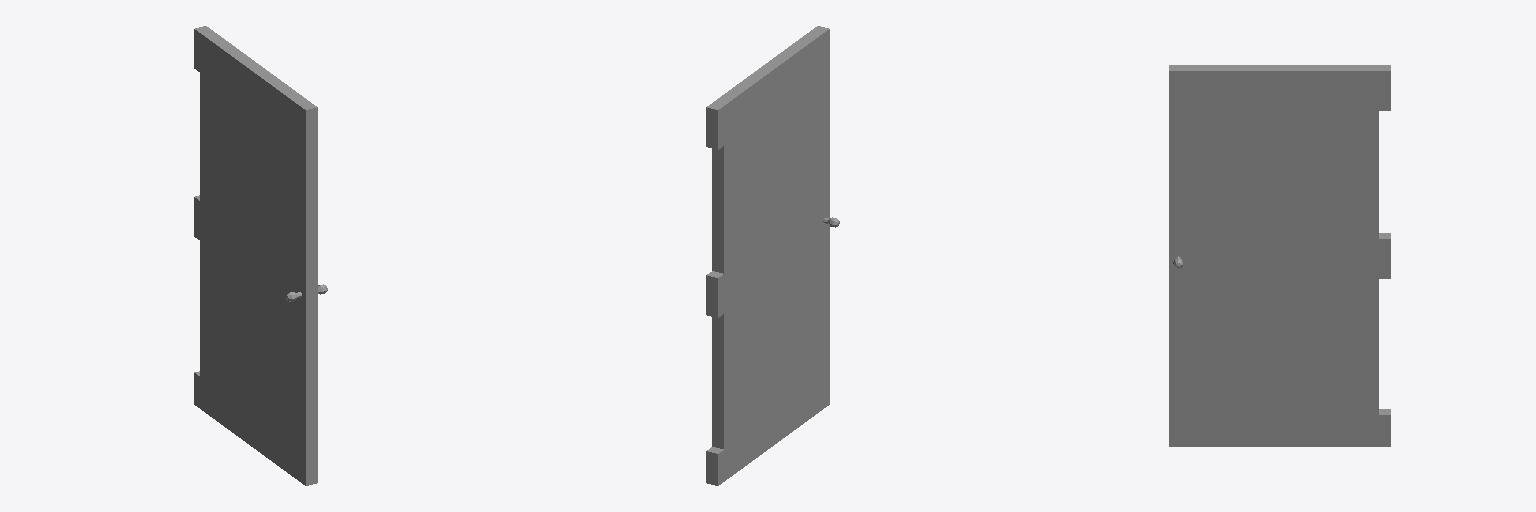
File: Door.obj
3 views of the same model, side by side, from view 1: azimuth 30°, elevation 25°; view 2: azimuth 150°, elevation 25°; view 3: azimuth 270°, elevation 25° (orthographic).
Parts seen in each view (by area): view 1: Cube; view 2: Cube; view 3: Cube.
Boxes of the visible parts, x1=… form: Cube: x1=194, y1=26, x2=327, y2=485; Cube: x1=706, y1=26, x2=839, y2=485; Cube: x1=1169, y1=65, x2=1390, y2=446.
Bounding box in the file's own units: 0.4399 × 3.91 × 2.1.